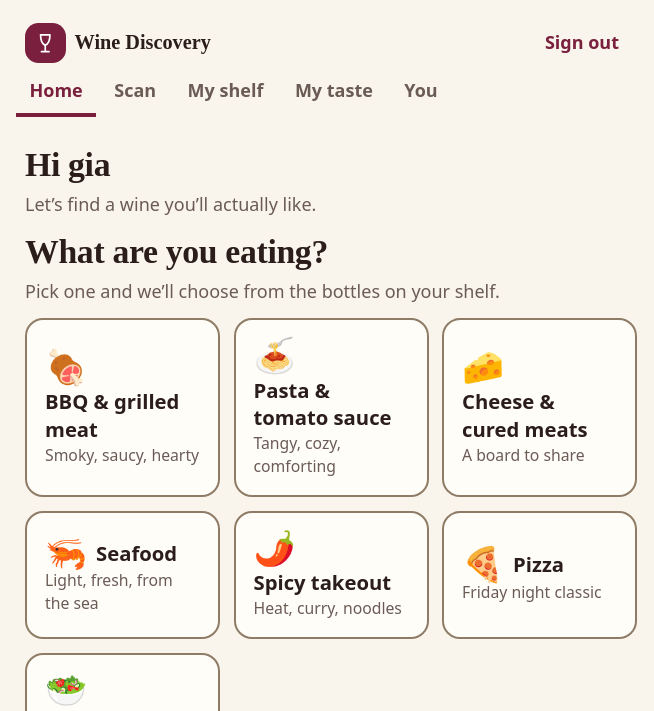
Scenario: ranked results › ranks the shelf for a meal, best first, with a label and a plain-language why on each
Click the link "🌶️ Spicy takeout Heat, curry, noodles" at (331, 575), box [234, 511, 428, 639]
(page scrolled)
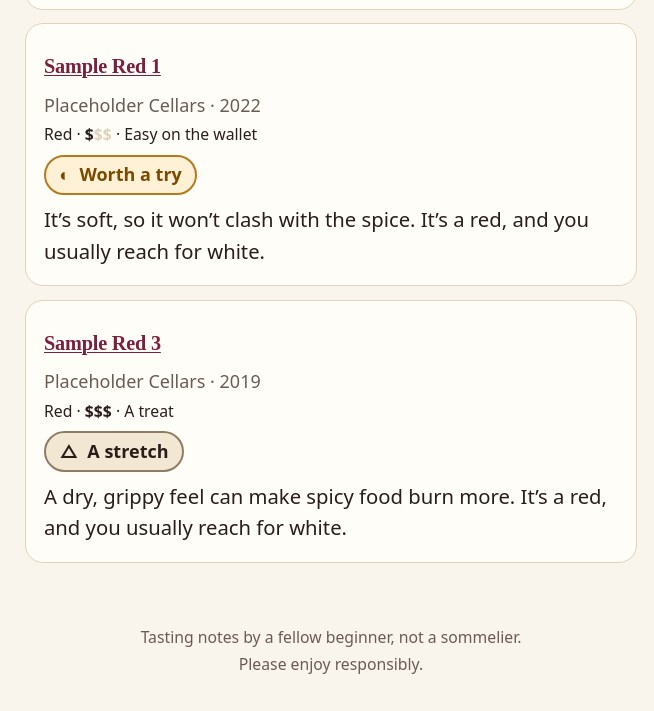
Expected: the list item that starts with "Sample Red 3" is shown, [44, 319, 161, 368]
Expected: the list item that starts with "Sample Red 1" shows ".", [25, 23, 637, 286]
Expected: the list item that starts with "Sample Red 3" shows ".", [25, 300, 637, 563]
